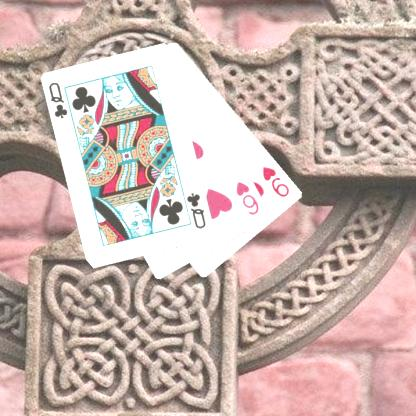6H: (233, 179, 261, 217)
9H: (260, 164, 291, 199)
QC: (184, 190, 208, 231), (47, 80, 69, 120)
